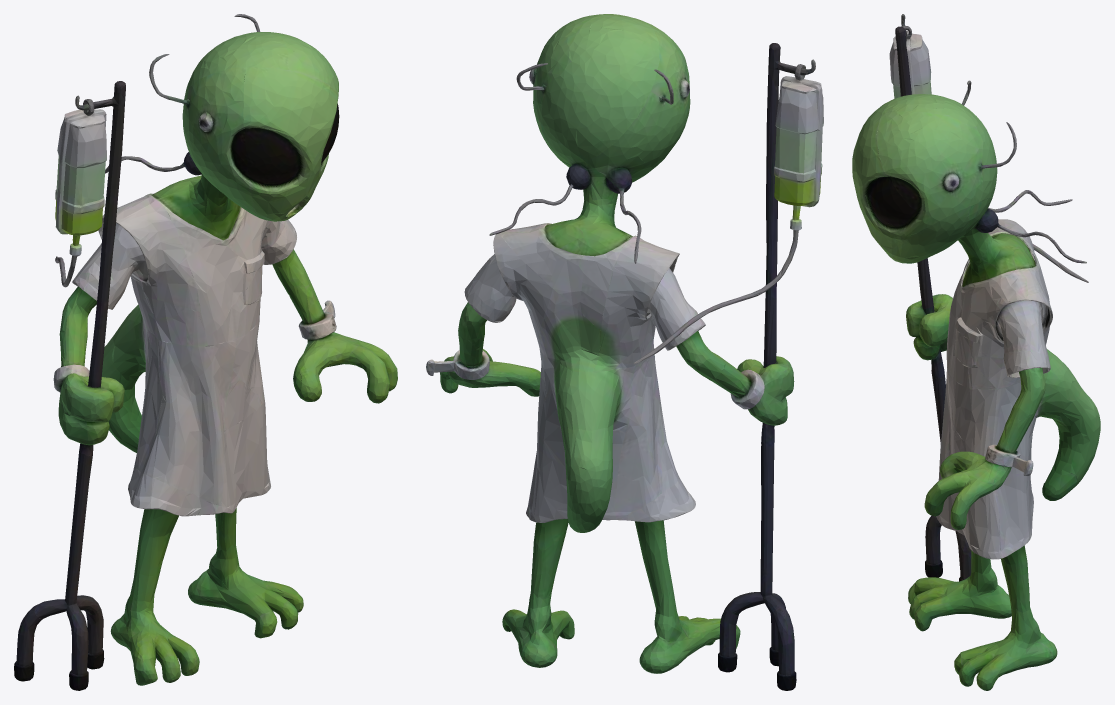
The model's file is alien.glb.
3 renders of one model, left to right at view 1: azimuth 30°, elevation 25°; view 2: azimuth 150°, elevation 25°; view 3: azimuth 270°, elevation 25°, orthographic. The views are drawn at different scales.
Visible parts, largest first — view 1: tripo_node_7fc5e396-7c0f-40c0-b8c4-a66b77c07d22; view 2: tripo_node_7fc5e396-7c0f-40c0-b8c4-a66b77c07d22; view 3: tripo_node_7fc5e396-7c0f-40c0-b8c4-a66b77c07d22.
Part boxes in pixels (box(x1,y1,x2,y2)): tripo_node_7fc5e396-7c0f-40c0-b8c4-a66b77c07d22: box(14, 14, 397, 690); tripo_node_7fc5e396-7c0f-40c0-b8c4-a66b77c07d22: box(426, 14, 823, 690); tripo_node_7fc5e396-7c0f-40c0-b8c4-a66b77c07d22: box(852, 14, 1100, 690).
Bounding box in the file's own units: 0.6214 × 0.9992 × 0.396.
Materials: 1 (1 with a texture image).
